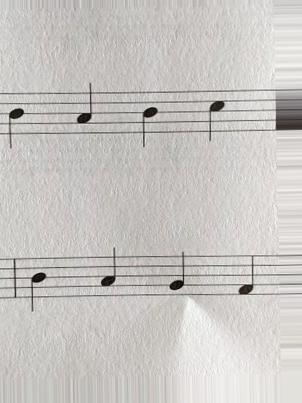note: (159, 249, 191, 309), (135, 85, 162, 153), (6, 84, 29, 157), (93, 242, 121, 300), (229, 250, 258, 306), (72, 80, 97, 143), (202, 84, 227, 147), (28, 253, 49, 318)
